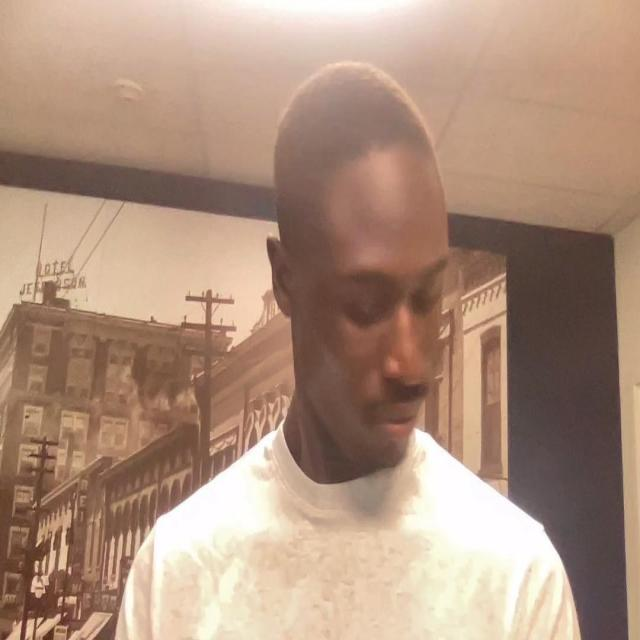face: (266, 160, 448, 468)
